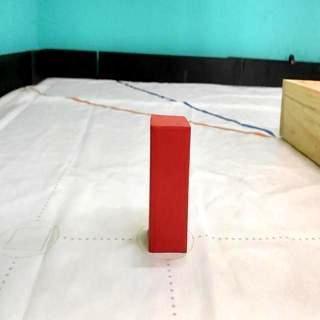redbox: (150, 114, 192, 253)
